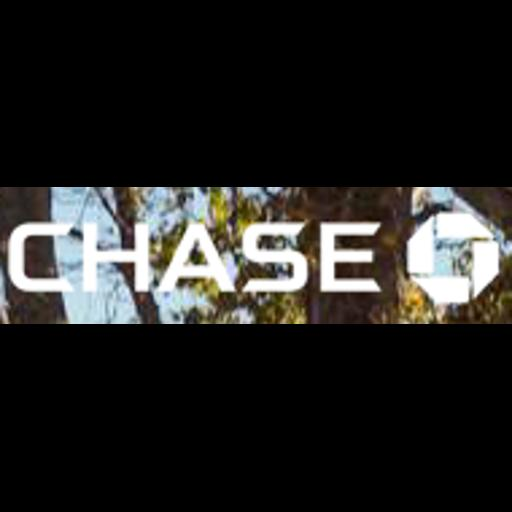Chase Personal Banking: (0, 187, 512, 324)
